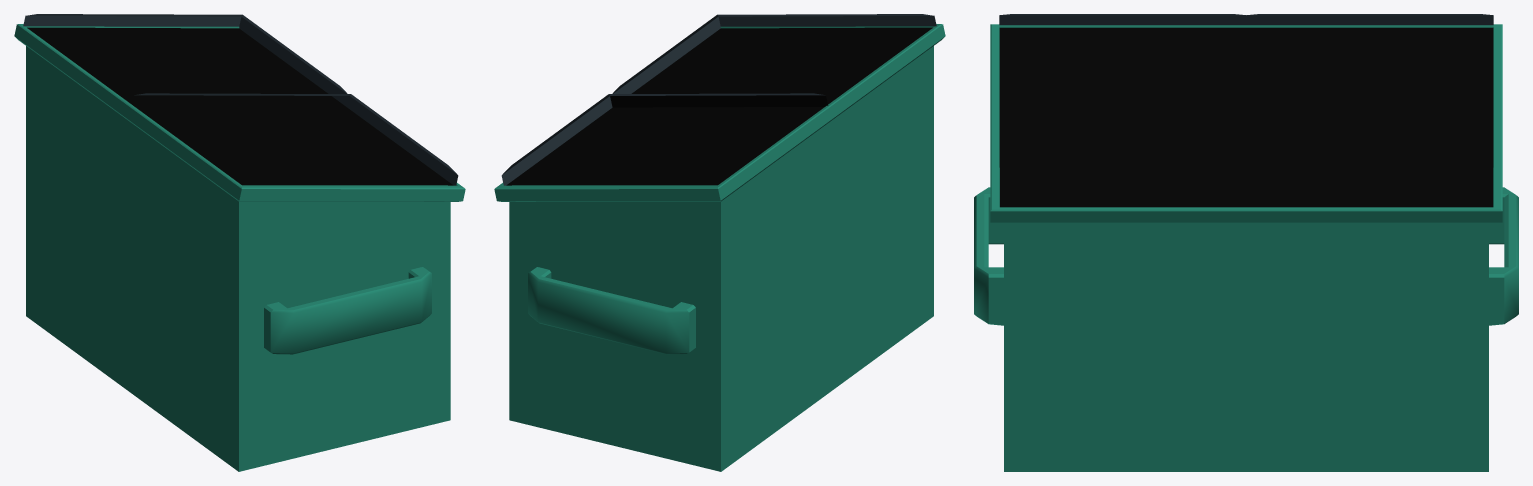
File: Dumpster.fbx
The picture shows the model from 3 angles, left to right: view 1: azimuth 30°, elevation 25°; view 2: azimuth 150°, elevation 25°; view 3: azimuth 270°, elevation 25°; orthographic projection. The views are drawn at different scales.
Visible parts, largest first — view 1: Dumpster; view 2: Dumpster; view 3: Dumpster.
Boxes of the visible parts, x1,y1,x2,y2 form: Dumpster: (14,14,465,471); Dumpster: (494,14,945,471); Dumpster: (974,14,1518,471).
Bounding box in the file's own units: 109 × 139 × 199.
